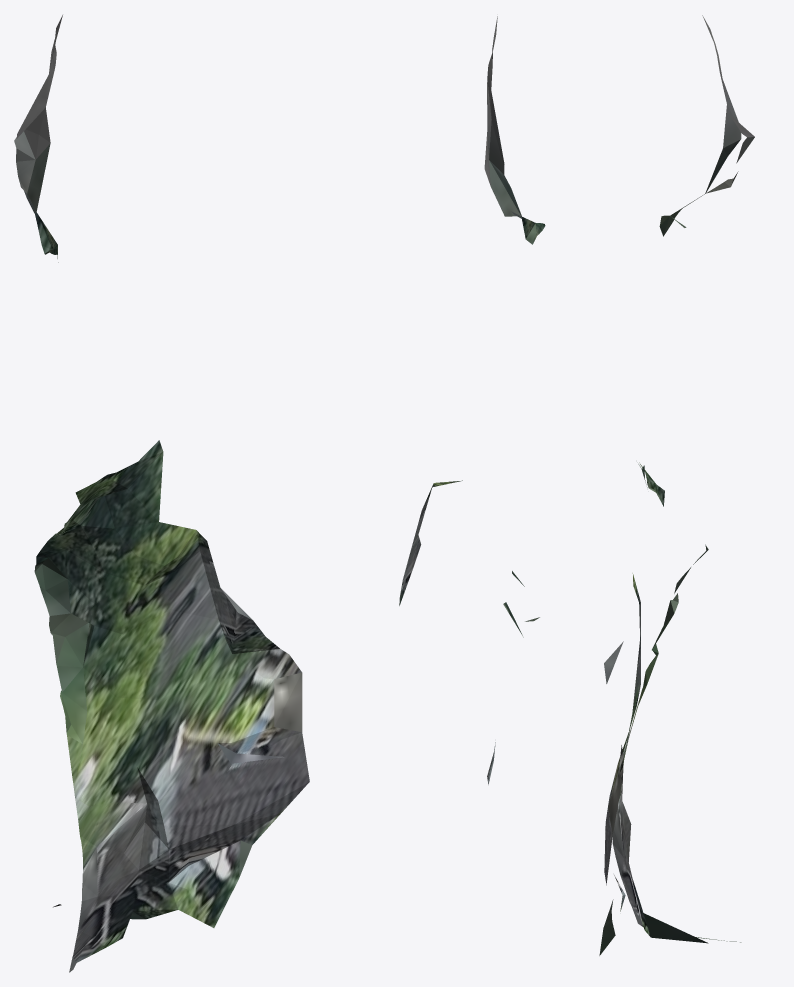
File: Tile_+003_+004.glb
The picture shows the model from 3 angles, left to right: view 1: azimuth 30°, elevation 25°; view 2: azimuth 150°, elevation 25°; view 3: azimuth 270°, elevation 25°; orthographic projection.
Parts seen in each view (by area): view 1: Node; view 2: Node; view 3: Node.
Part boxes in pixels (x1,y1,x2,y2): Node: (14,15,309,972); Node: (399,16,545,784); Node: (599,15,754,955).
Size of the model in its own units: 25.47 by 100 by 17.79.
Materials: 1 (1 with a texture image).
